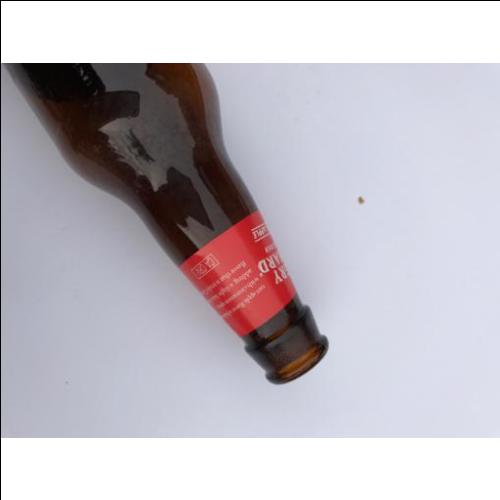glass: (2, 62, 328, 387)
